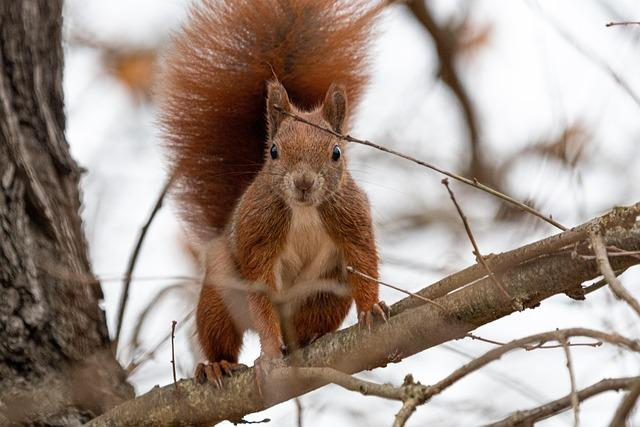Non_Gorille: (119, 8, 451, 370)
